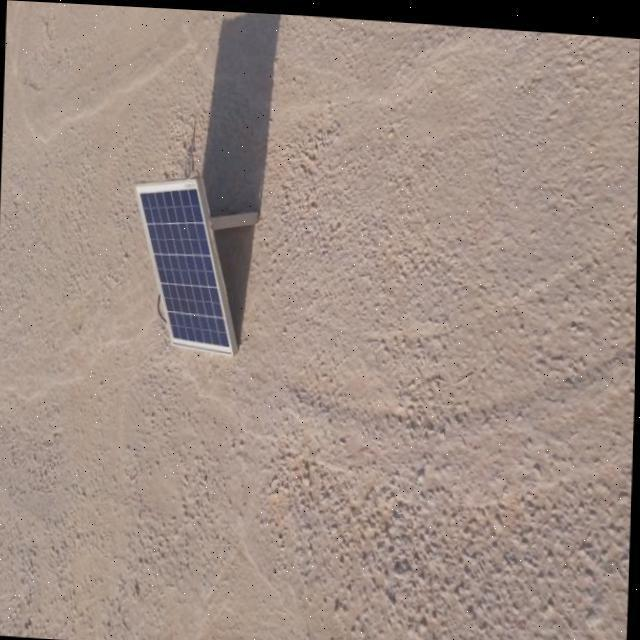Normal Solar Panel: (130, 173, 236, 351)
